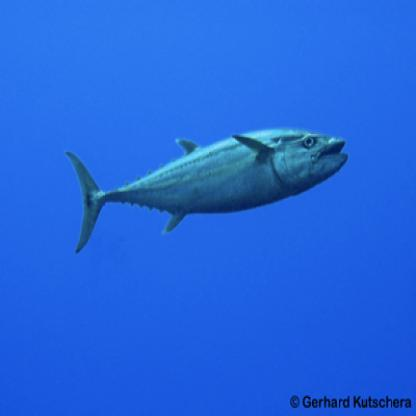tuna: (65, 124, 353, 254)
